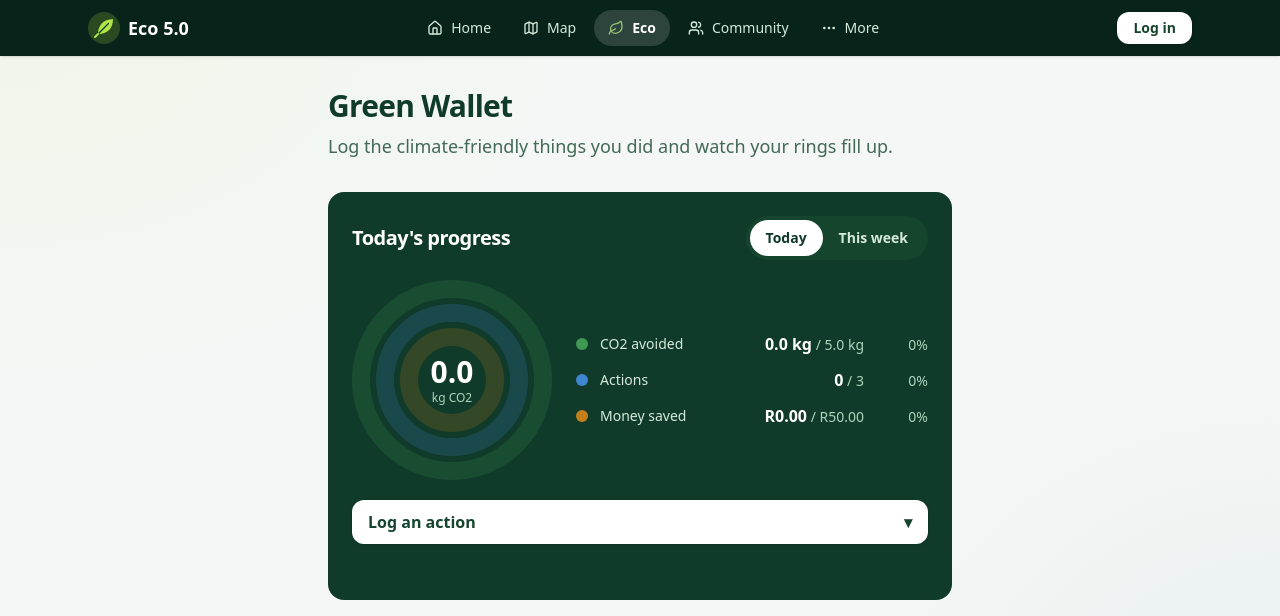
Test: App smoke tests › logs an action in Green Wallet and updates today
What coordinates should you click on to do the following:
click the button "Log an action ▾"
I would click on:
 (422, 522)
Its box is [352,500,928,544].
(page scrolled)
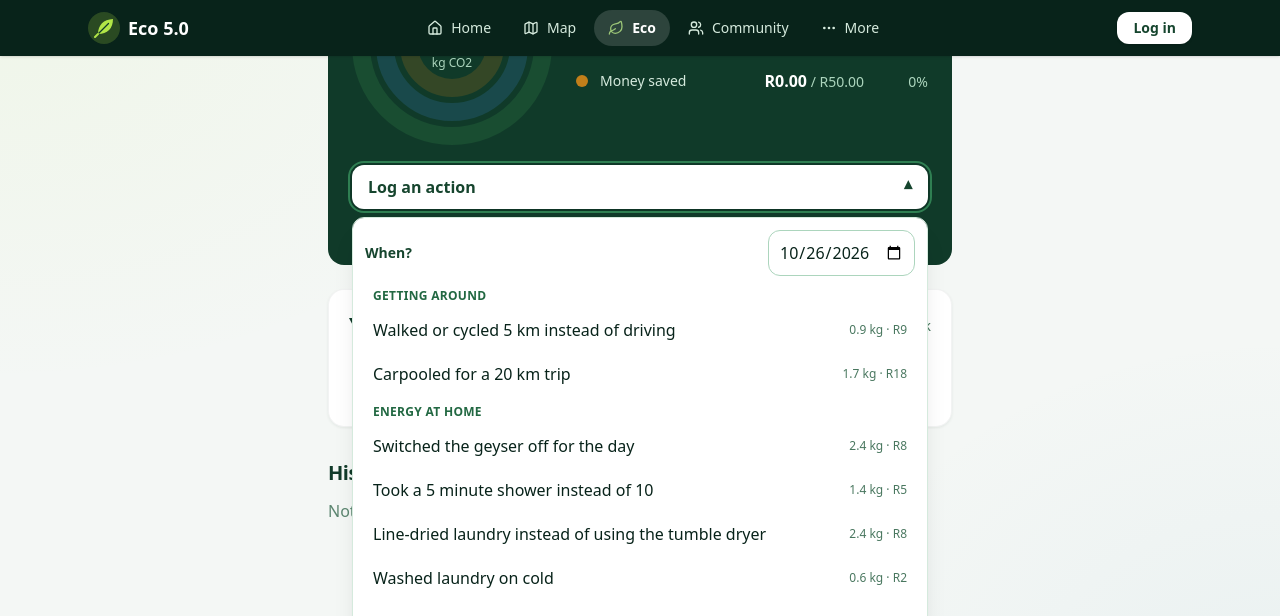
What coordinates should you click on to do the following:
click the button "Walked or cycled 5 km instead of driving 0.9 kg · R9"
I would click on:
 (640, 330)
Its box is [365,308,915,352].
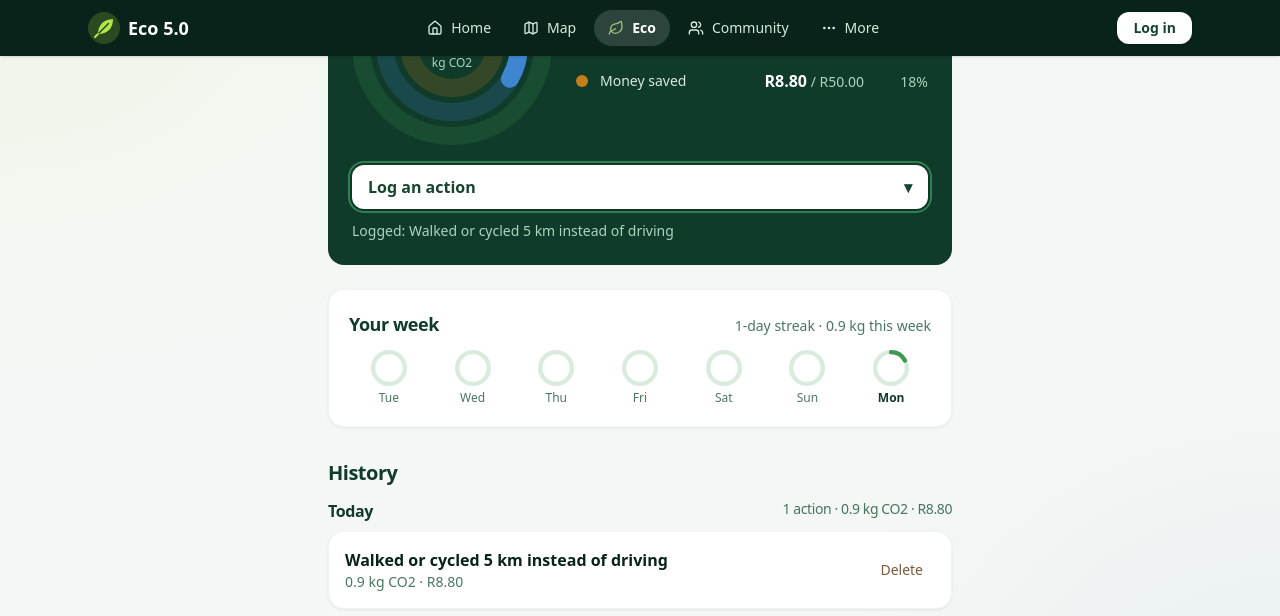
Result: the text "1 action · 0.9 kg CO2 · R8.80" is shown at [782,499,952,523]
Result: the text "Walked or cycled 5 km instead of driving" is shown at [345,548,668,572]
